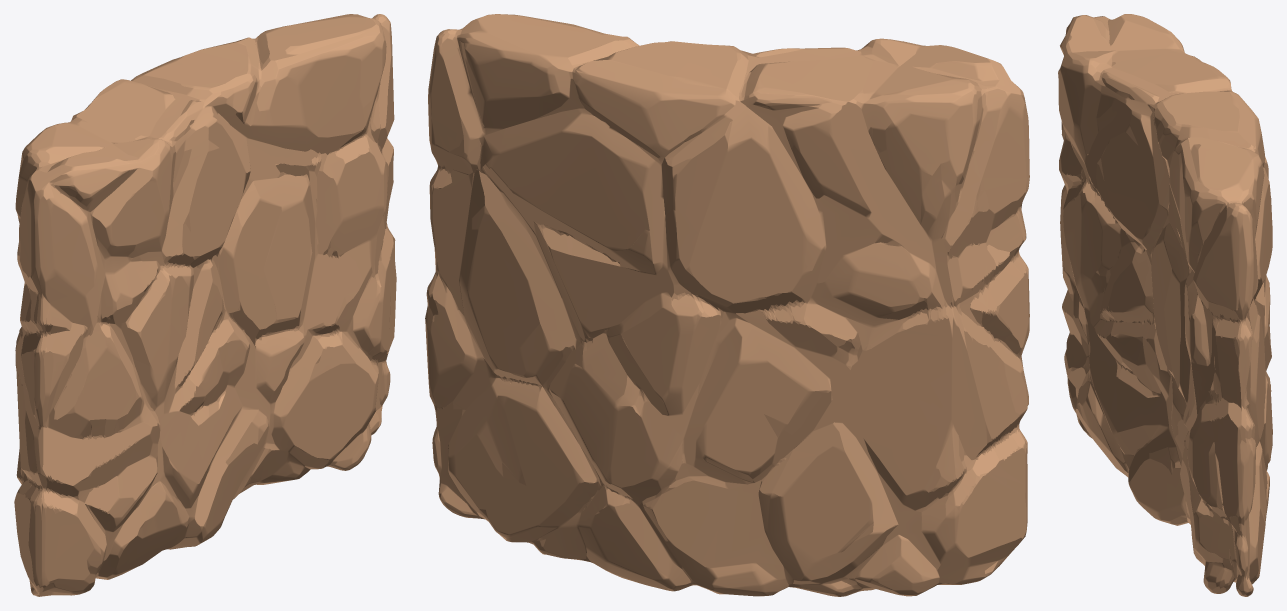
The picture shows the model from 3 angles, left to right: view 1: azimuth 30°, elevation 25°; view 2: azimuth 150°, elevation 25°; view 3: azimuth 270°, elevation 25°; orthographic projection. The views are drawn at different scales.
Visible parts, largest first — view 1: Mesh_14_LOD0; view 2: Mesh_14_LOD0; view 3: Mesh_14_LOD0.
Part boxes in pixels (box(x1,y1,x2,y2)): Mesh_14_LOD0: box(14, 14, 396, 596); Mesh_14_LOD0: box(425, 14, 1029, 596); Mesh_14_LOD0: box(1058, 14, 1272, 596).
Size of what is drawn, in the model's own units: 3781 by 3649 by 1671.
